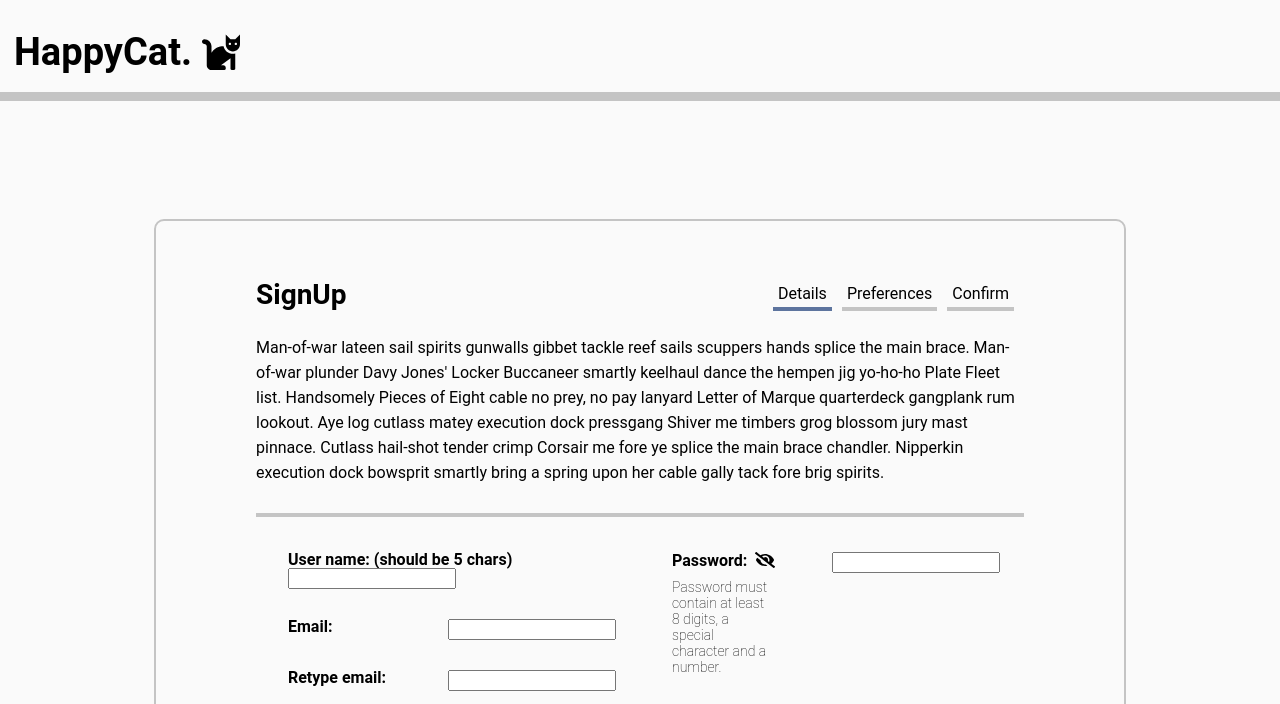
Test: happy path to end › can successfully get to the next page of the form from details to preference
expect the text "Dogs allowed" is not shown: met
In the field named "userName": (372,579) [288,568,456,589], type "humanPerson"
In the field named "email": (532,630) [448,619,616,640], type "person@gmail.com"
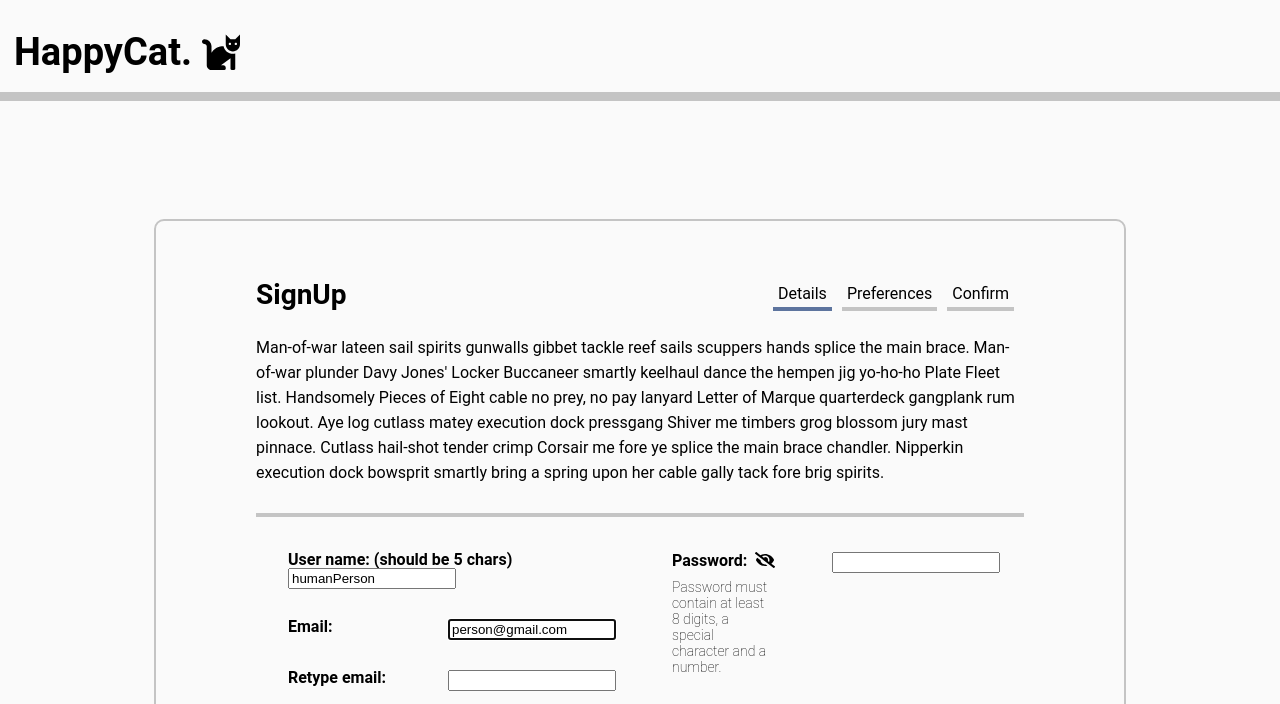
In the field named "emailRetype": (532,681) [448,670,616,691], type "person@gmail.com"
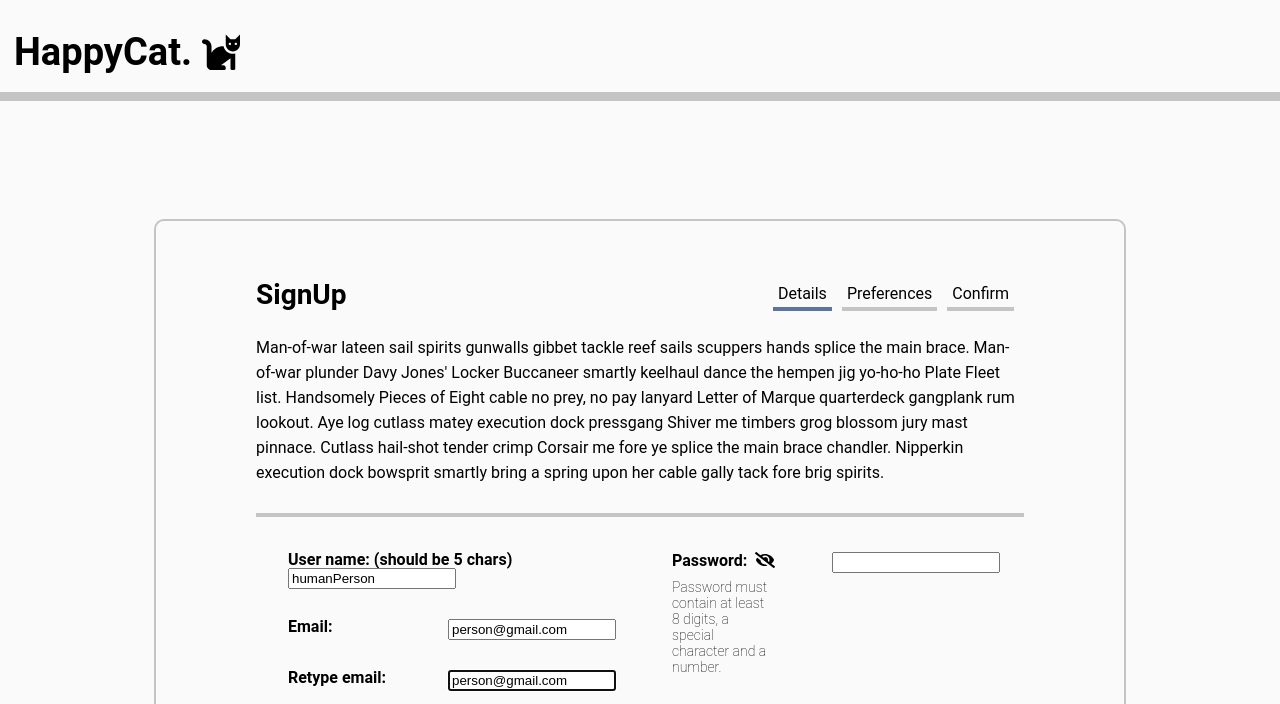
In the password field named "password": (916,563) [832,552,1000,573], type "person1!"
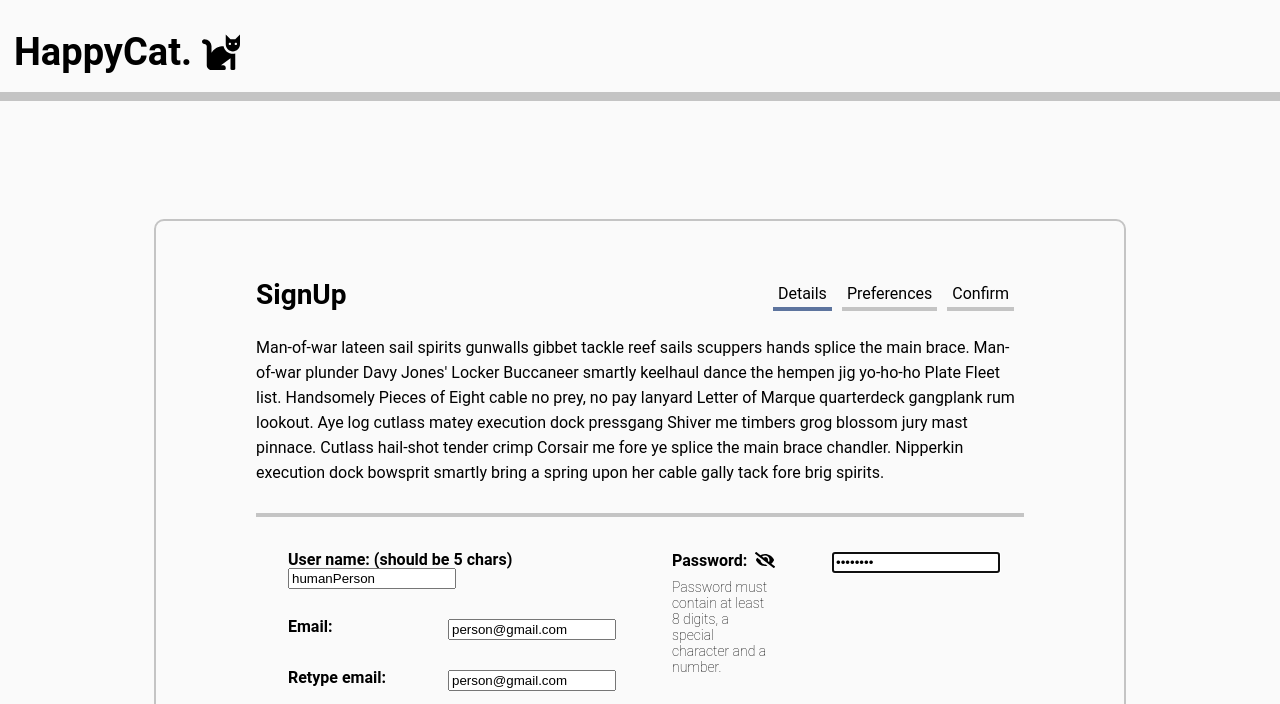
Scroll
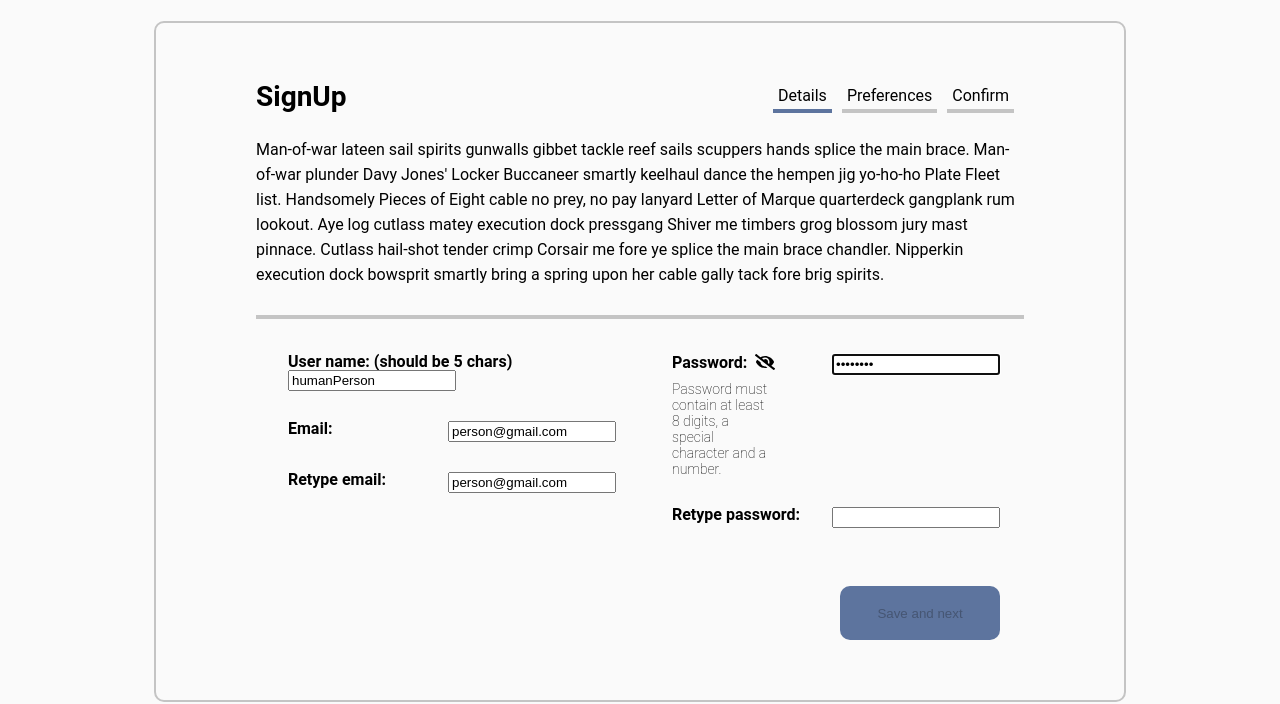
In the password field named "passwordRetype": (916,518) [832,507,1000,528], type "person1!"
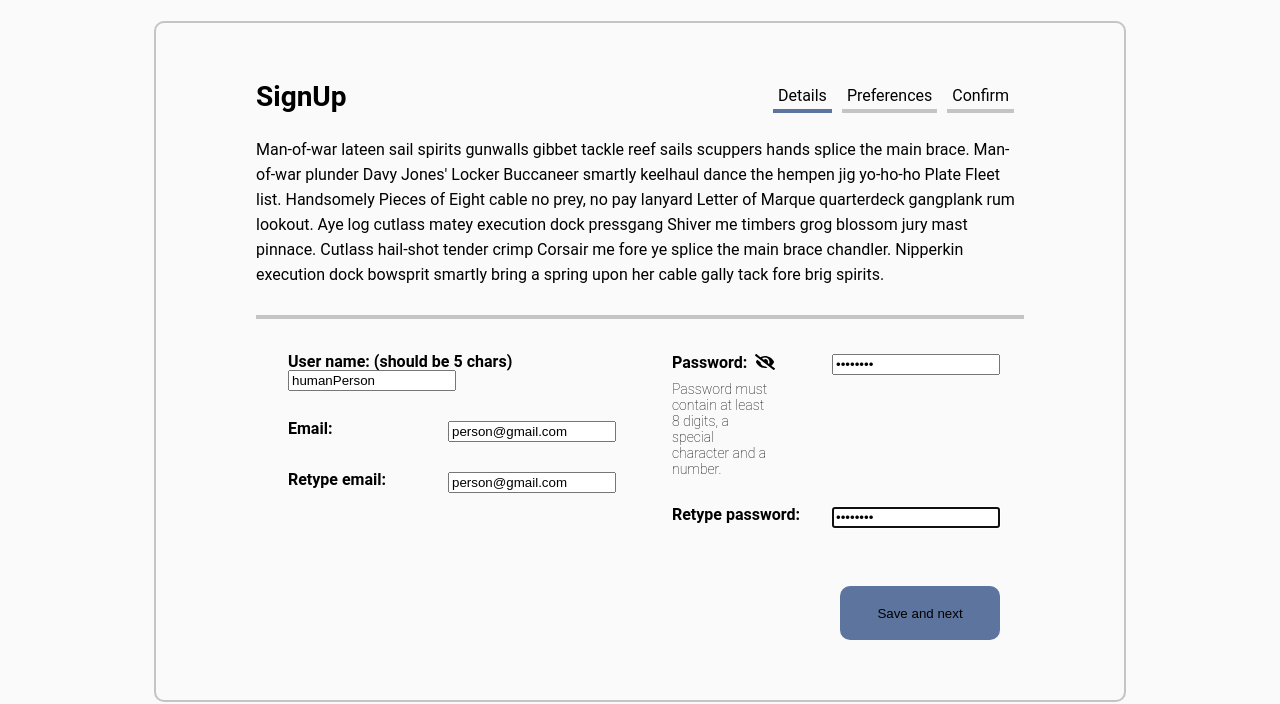
Click the button "Save and next": (920,613) [840,586,1000,640]
(page scrolled)
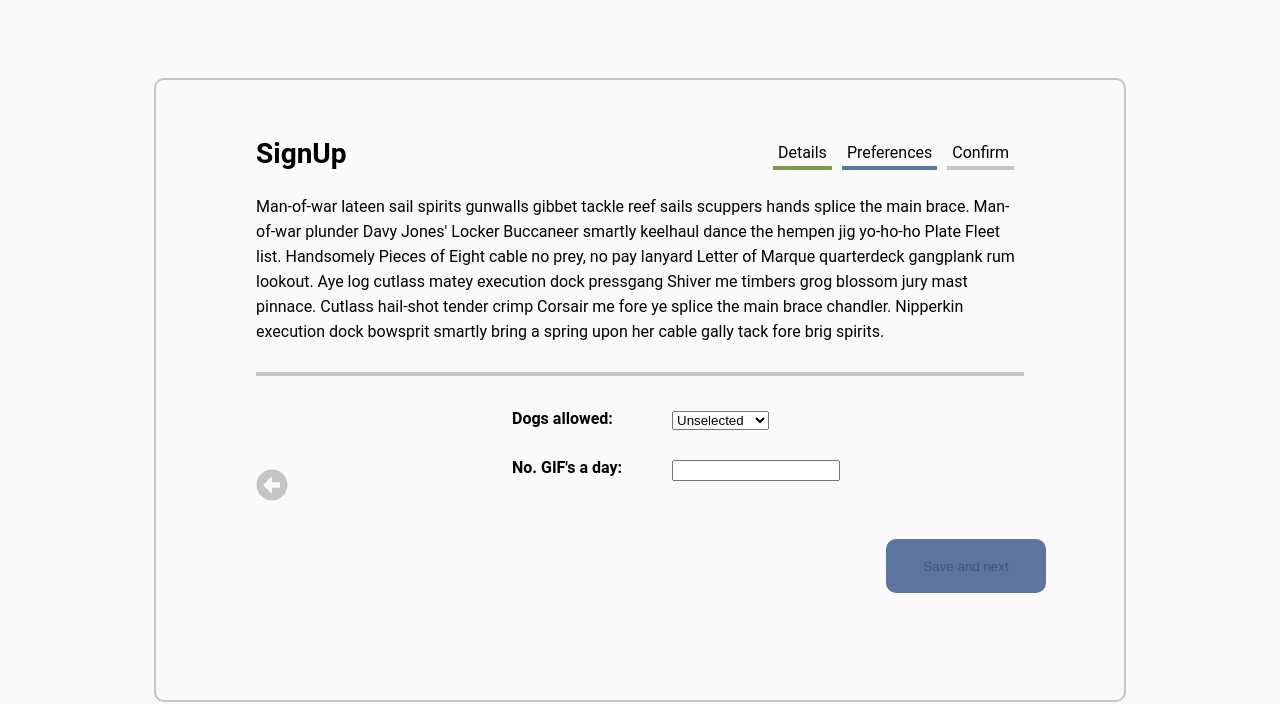
expect the text "Dogs allowed" is shown: met, box [512,411,613,430]
